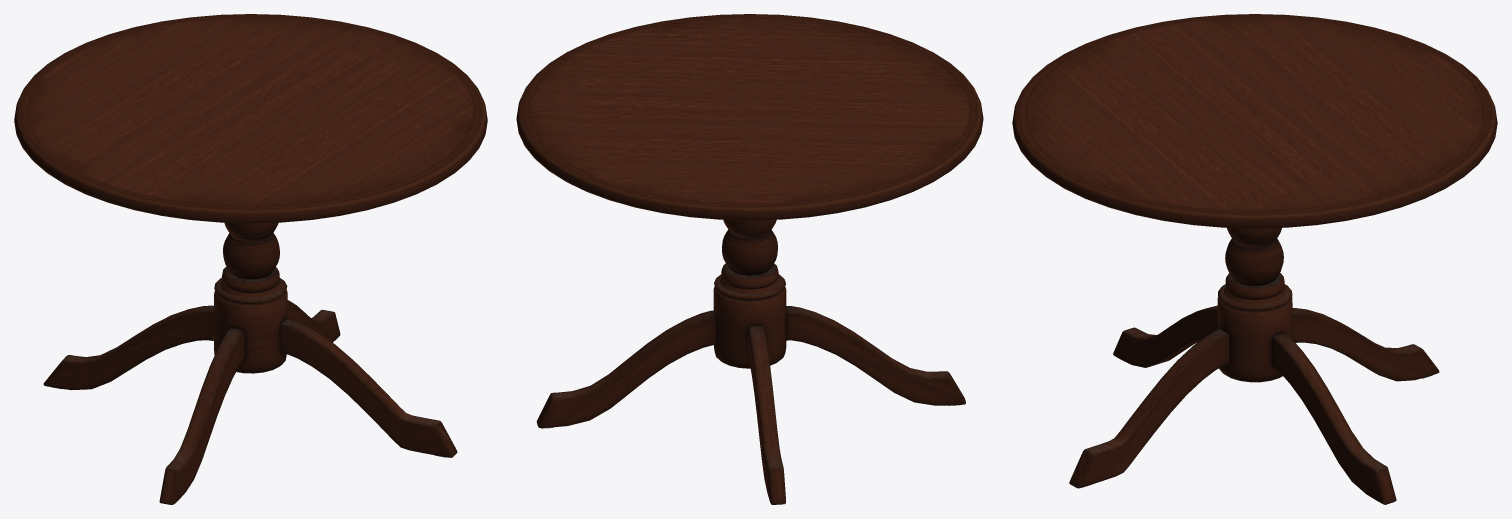
File: table.glb
3 renders of one model, left to right at view 1: azimuth 30°, elevation 25°; view 2: azimuth 150°, elevation 25°; view 3: azimuth 270°, elevation 25°, orthographic. The views are drawn at different scales.
Visible parts, largest first — view 1: round_wooden_table_01; view 2: round_wooden_table_01; view 3: round_wooden_table_01.
Part boxes in pixels (x1,y1,x2,y2): round_wooden_table_01: (14, 14, 487, 504); round_wooden_table_01: (516, 14, 983, 504); round_wooden_table_01: (1012, 14, 1497, 504).
Size of the model in its own units: 1.4 by 1.01 by 1.4.
Materials: 1 (1 with a texture image).
